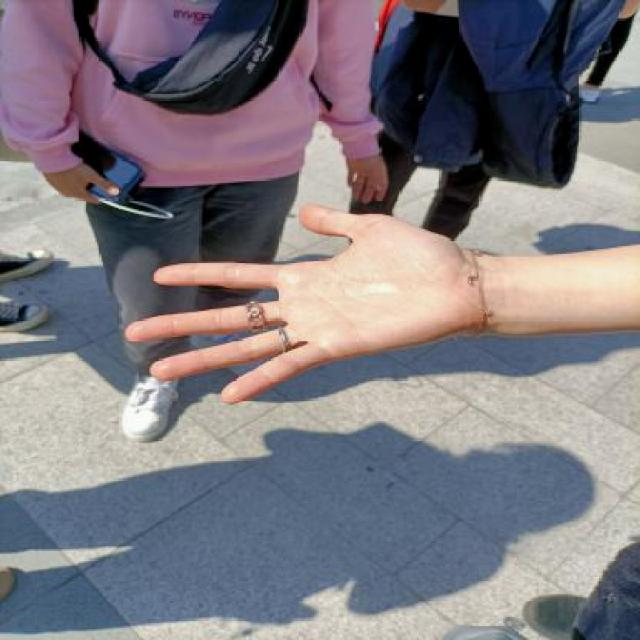no_glove: (112, 189, 497, 423)
